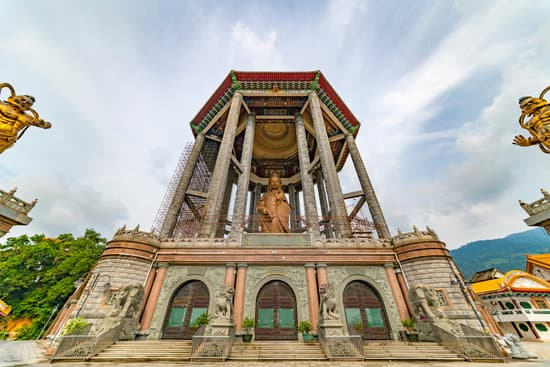Buddhist Temple: (136, 57, 395, 330)
